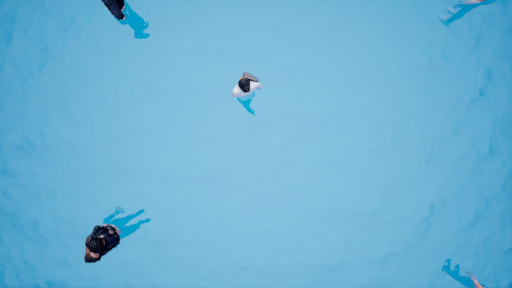person: (73, 208, 160, 265), (231, 74, 269, 114)
